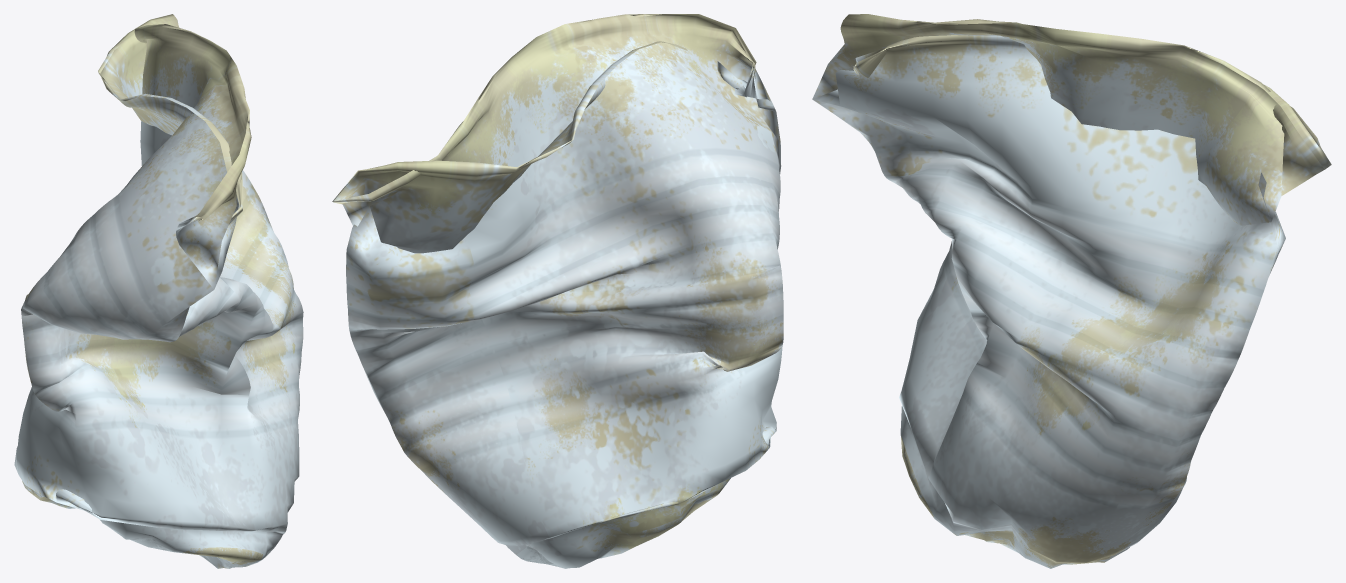
Rendered from VasoDesechable_02.fbx.
The picture shows the model from 3 angles, left to right: view 1: azimuth 30°, elevation 25°; view 2: azimuth 150°, elevation 25°; view 3: azimuth 270°, elevation 25°; orthographic projection. The views are drawn at different scales.
Visible parts, largest first — view 1: Cylinder; view 2: Cylinder; view 3: Cylinder.
Part boxes in pixels (bbox=[...]): Cylinder: bbox=[14, 14, 303, 568]; Cylinder: bbox=[332, 14, 783, 568]; Cylinder: bbox=[812, 14, 1331, 568].
Size of the model in its own units: 0.081 by 0.1146 by 0.0992.
